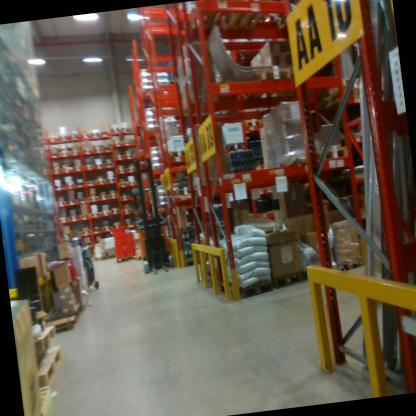forklift: (123, 146, 181, 280)
pallet: (235, 62, 293, 104), (186, 0, 237, 43), (220, 0, 273, 41), (241, 0, 295, 37), (218, 278, 279, 309), (23, 312, 69, 353), (312, 64, 367, 93), (316, 81, 369, 110), (43, 303, 86, 337), (30, 372, 59, 416), (315, 139, 351, 171), (33, 343, 64, 378), (268, 264, 307, 290), (332, 252, 365, 275), (279, 153, 318, 170), (170, 184, 198, 201), (91, 249, 118, 265), (164, 142, 189, 159), (114, 251, 135, 264), (133, 252, 148, 266)
small_load_carrier: (54, 253, 82, 293), (110, 225, 123, 241), (117, 229, 133, 240), (123, 245, 136, 258), (122, 239, 136, 250), (114, 248, 125, 260), (113, 239, 124, 249)
